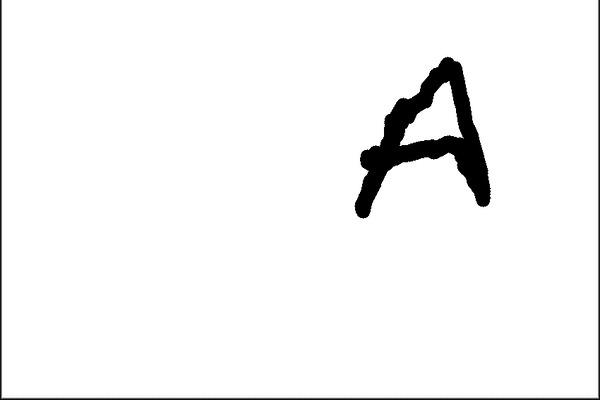A: (343, 44, 502, 222)
